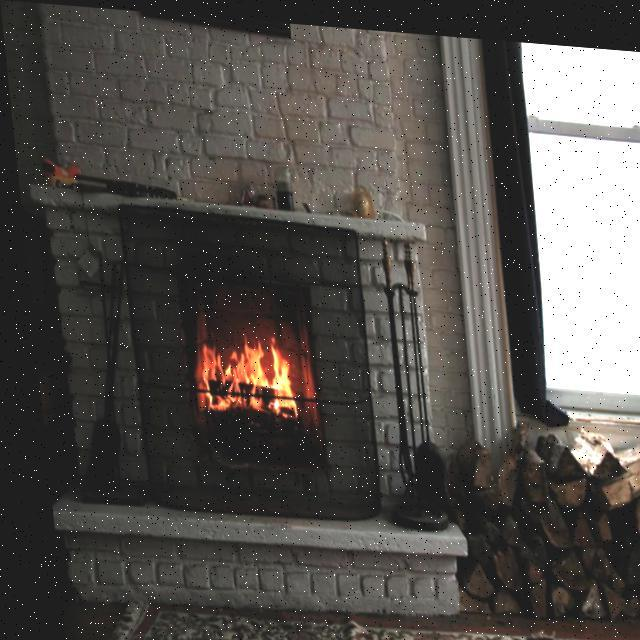Fire: (186, 323, 295, 420)
